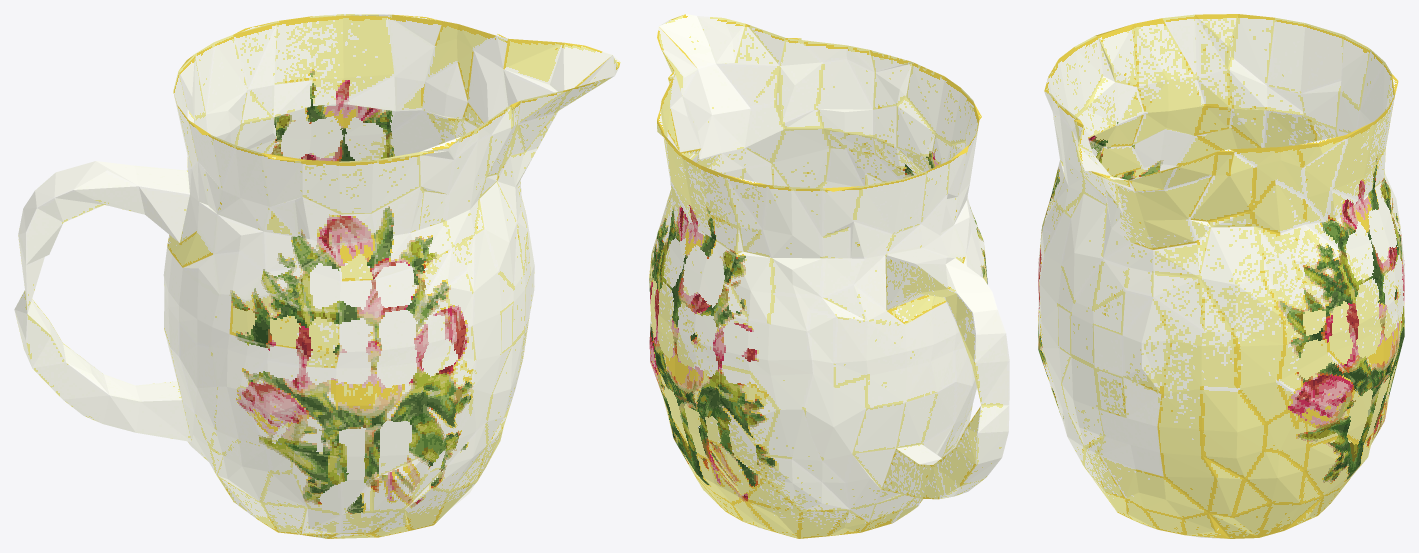
File: jug.glb
3 views of the same model, side by side, from view 1: azimuth 30°, elevation 25°; view 2: azimuth 150°, elevation 25°; view 3: azimuth 270°, elevation 25° (orthographic). The views are drawn at different scales.
Visible parts, largest first — view 1: model_m; view 2: model_m; view 3: model_m.
Part boxes in pixels (<box>): model_m: <box>14,14,620,538</box>; model_m: <box>649,14,1009,538</box>; model_m: <box>1038,14,1404,538</box>.
Size of the model in its own units: 42.92 by 36 by 28.1.
Materials: 1 (1 with a texture image).
